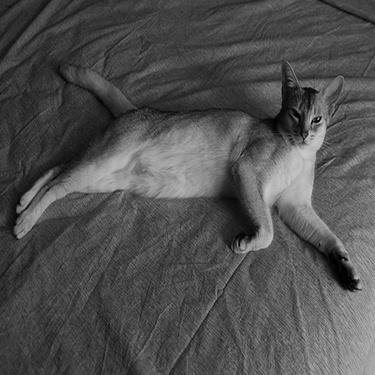cat: (13, 57, 362, 293)
